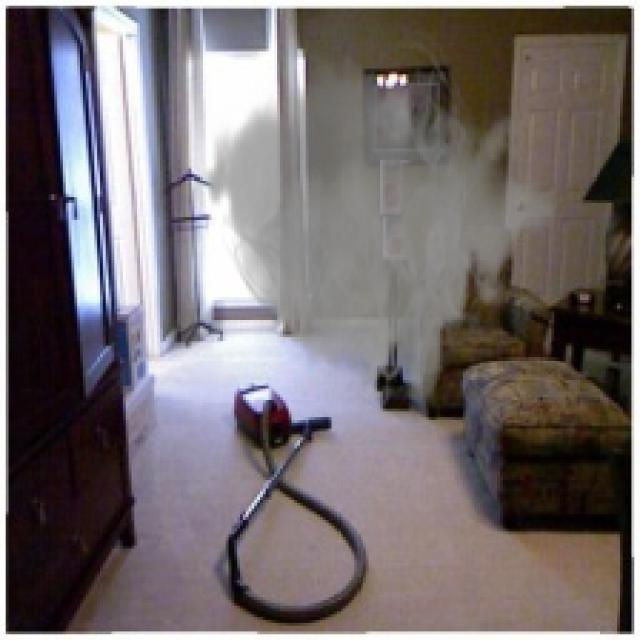Smoke: (203, 22, 560, 418)
